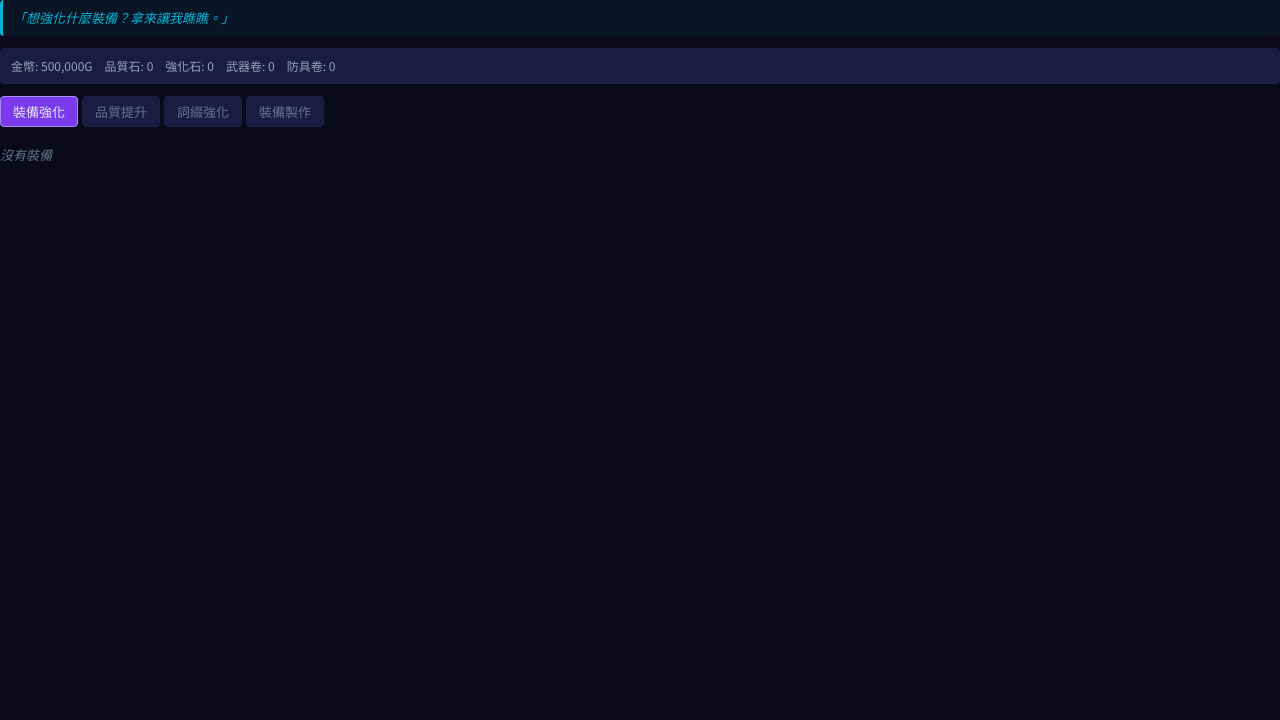
Test: TownBlacksmith - Crafting › shows success message after crafting
Step 1. Click the button "裝備製作" → point(285, 111), box [246, 96, 324, 126]
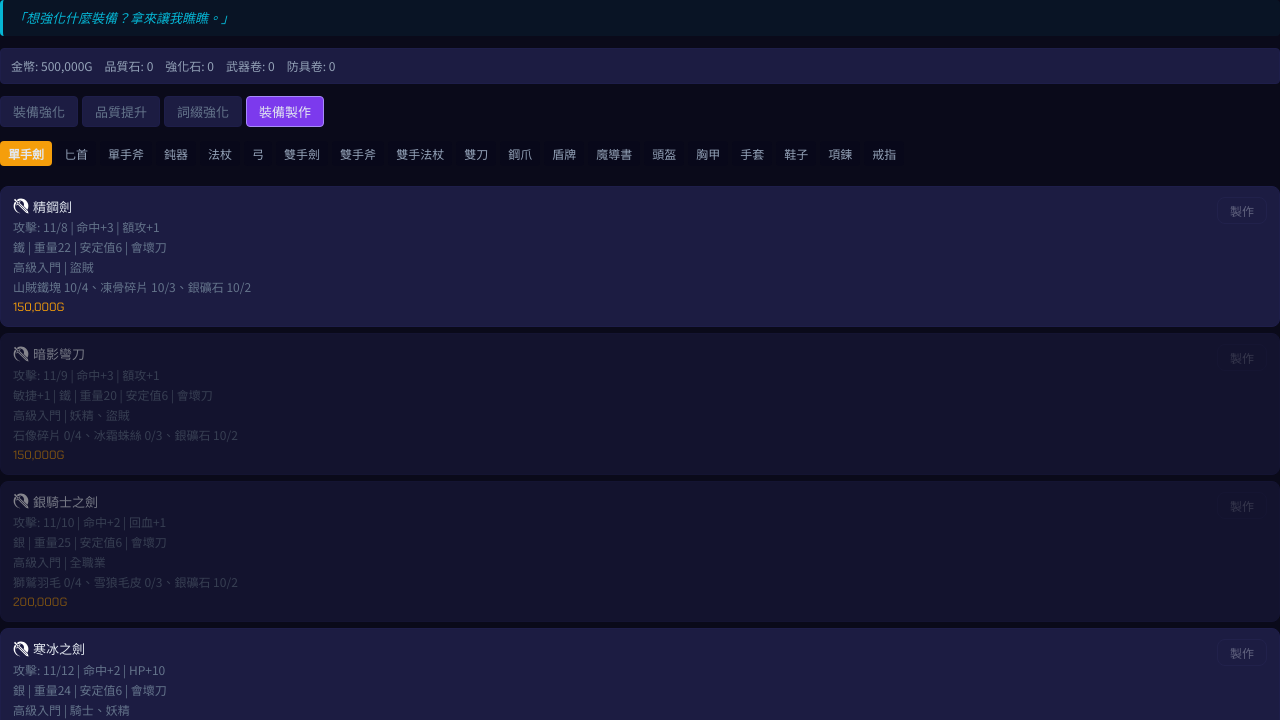
Step 2. Click the text "精鋼劍" → point(42, 206), box [13, 196, 72, 216]
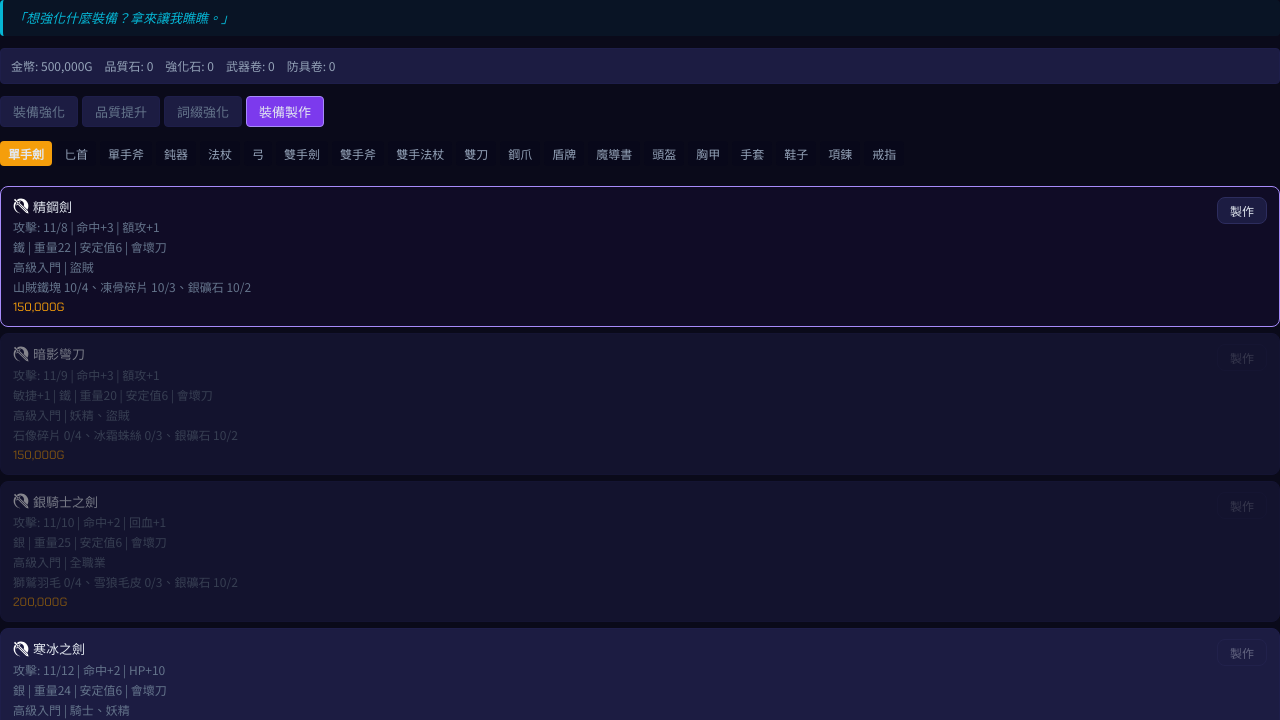
Step 3. Click the button "製作" in the row of "攻擊: 11/8" → point(1242, 210), box [1217, 196, 1267, 224]
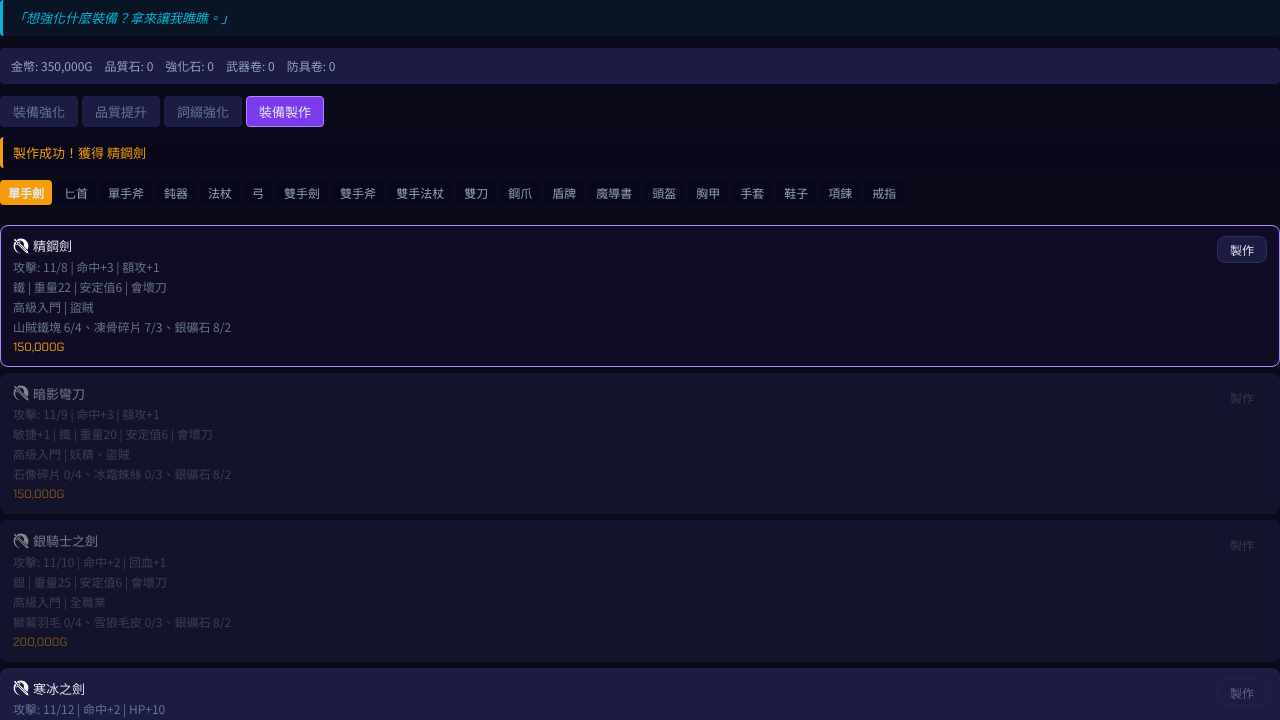
Expected: the text "製作成功！獲得 精鋼劍" is shown, [0, 136, 1279, 168]
